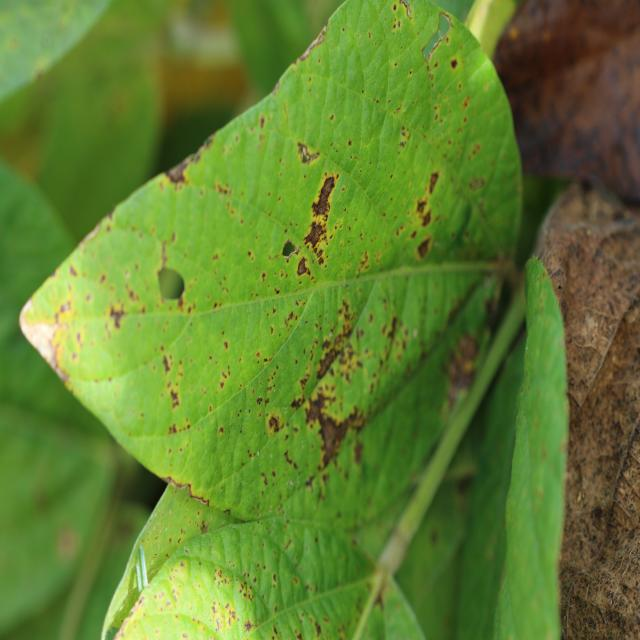Bacterial_Blight: (301, 306, 377, 469), (283, 168, 344, 284), (441, 277, 489, 344), (445, 328, 480, 407), (152, 251, 189, 315), (413, 169, 442, 233), (423, 12, 453, 64), (295, 19, 329, 62), (448, 201, 474, 250), (310, 174, 337, 219), (315, 341, 342, 381), (167, 152, 201, 183), (50, 337, 72, 384), (378, 314, 399, 358), (296, 140, 321, 165), (108, 303, 127, 329), (265, 410, 284, 435), (281, 239, 301, 262), (373, 579, 387, 608), (159, 238, 170, 273), (188, 491, 211, 507), (290, 391, 306, 411), (296, 257, 310, 277), (468, 176, 486, 191), (399, 1, 413, 19), (428, 171, 439, 193), (169, 388, 180, 409), (162, 354, 172, 374), (399, 125, 409, 144), (258, 394, 270, 407), (394, 106, 401, 114)
Soybean: (20, 0, 566, 640)
